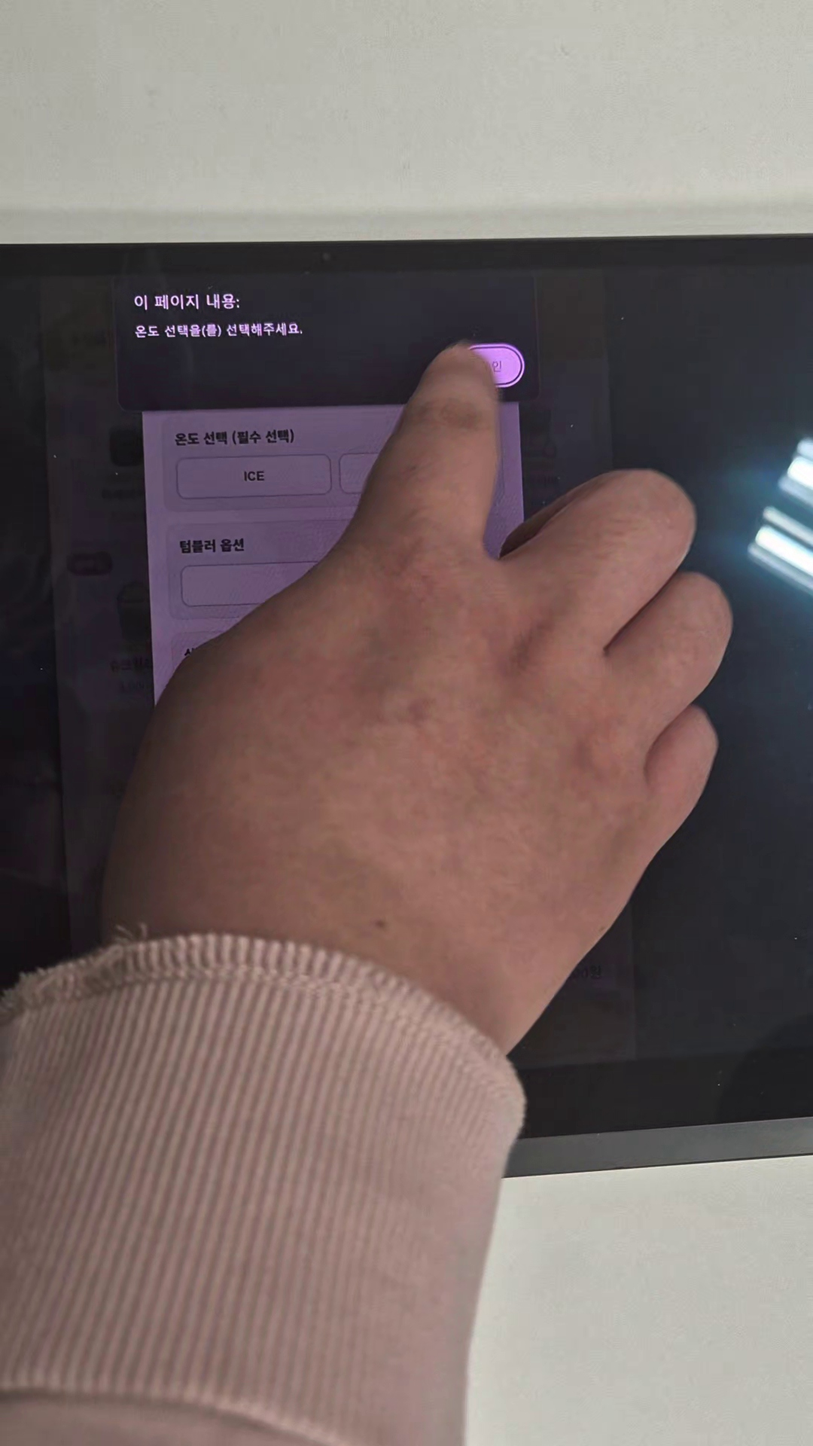option_button: (178, 456, 332, 495)
